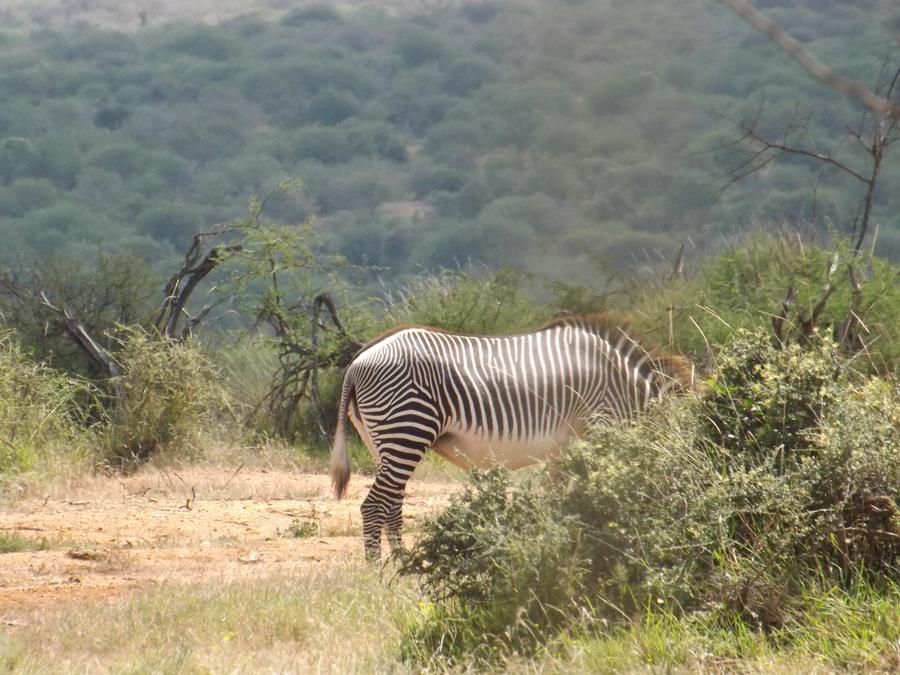zebra_grevys: (336, 318, 602, 446)
